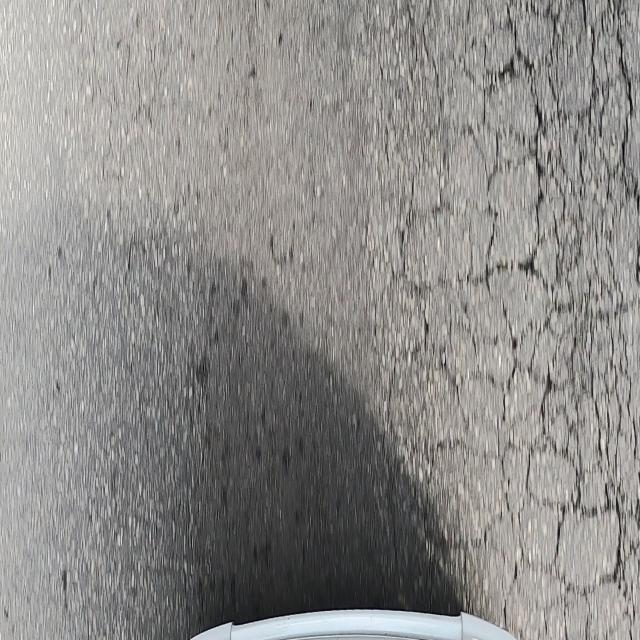Retak-Buaya: (376, 0, 640, 640)
